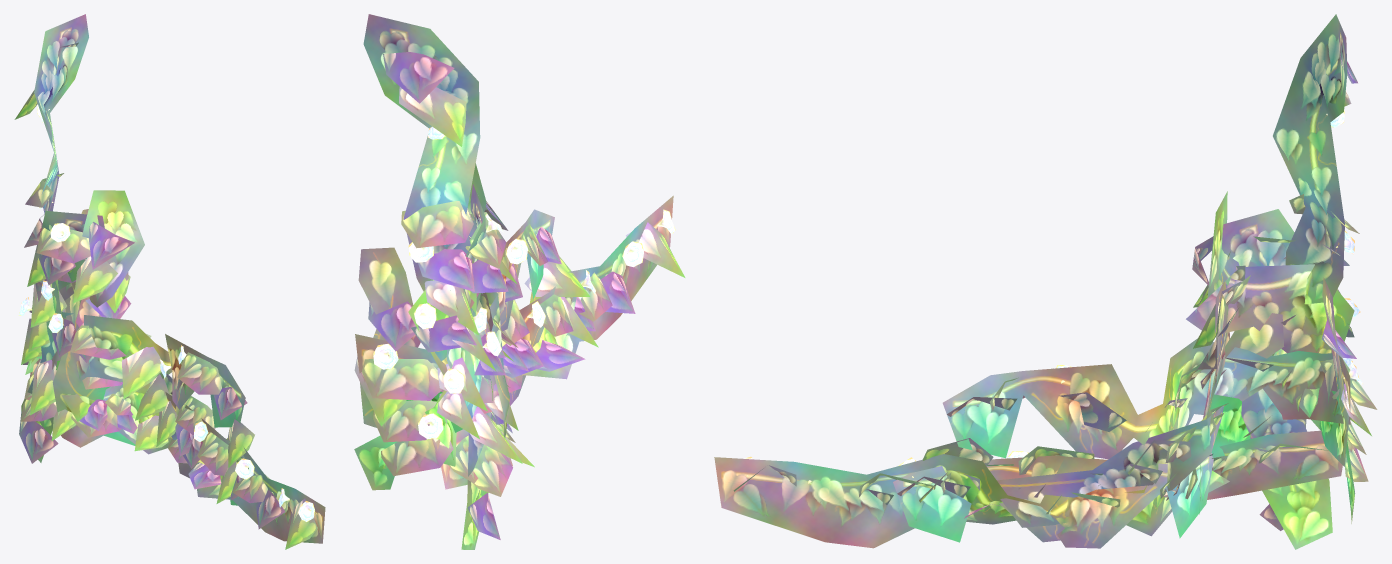
Rendered from moonflower_02_SM.fbx.
3 views of the same model, side by side, from view 1: azimuth 30°, elevation 25°; view 2: azimuth 150°, elevation 25°; view 3: azimuth 270°, elevation 25° (orthographic). The views are drawn at different scales.
Visible parts, largest first — view 1: moonflower_02_SM_LOD0; view 2: moonflower_02_SM_LOD0; view 3: moonflower_02_SM_LOD0.
Boxes of the visible parts, x1,y1,x2,y2 form: moonflower_02_SM_LOD0: (14,14,325,549); moonflower_02_SM_LOD0: (354,14,685,549); moonflower_02_SM_LOD0: (714,14,1377,549).
Size of the model in its own units: 134 by 568 by 523.
2 materials, 2 textured.
